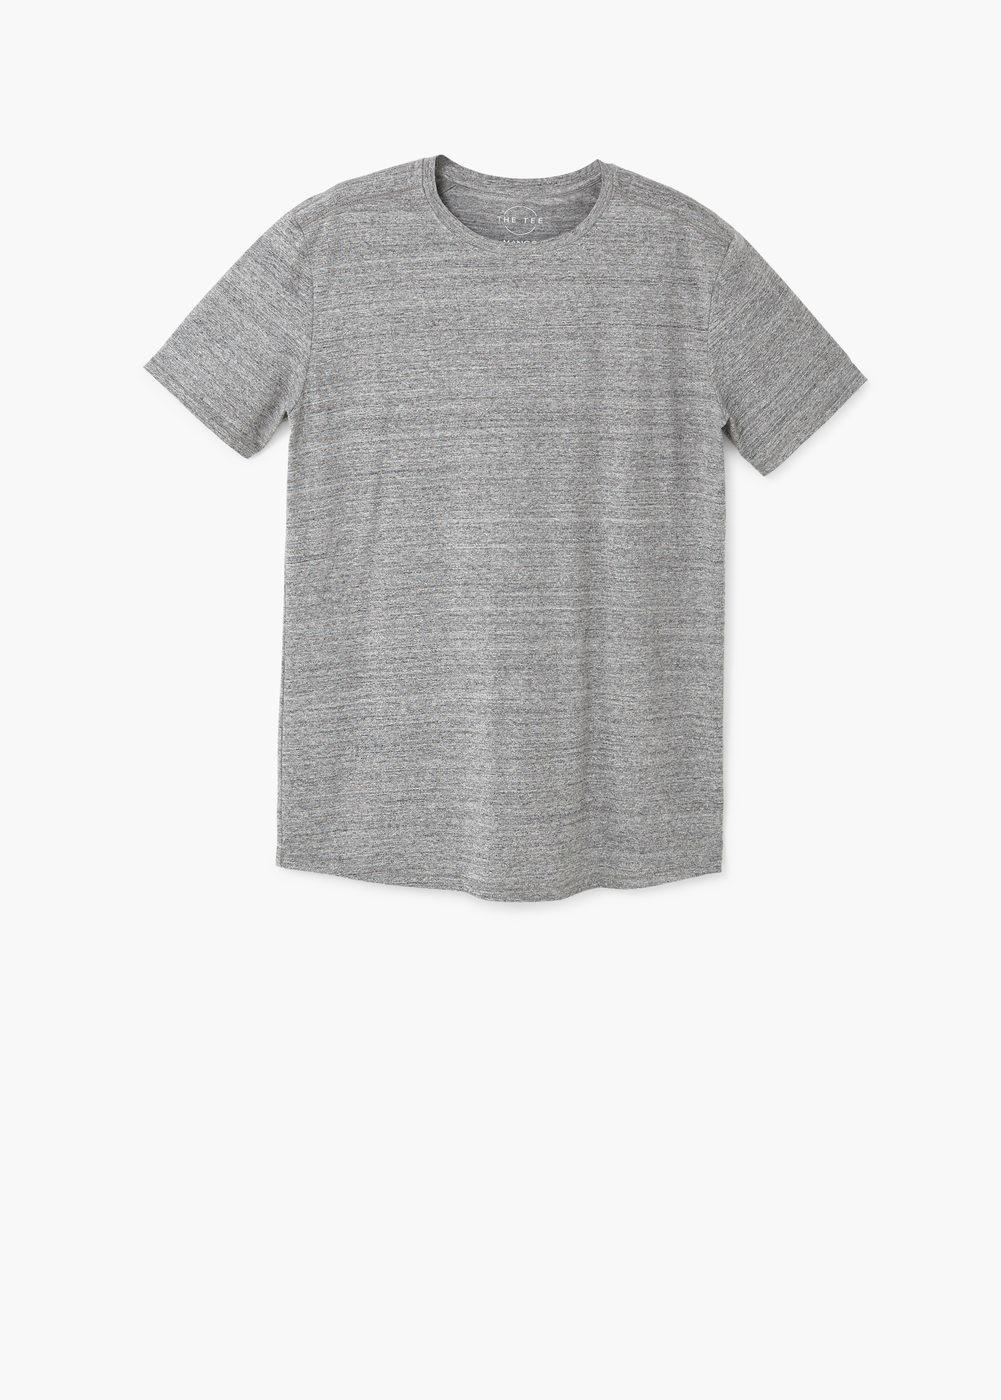teeshirt: (106, 138, 882, 948)
